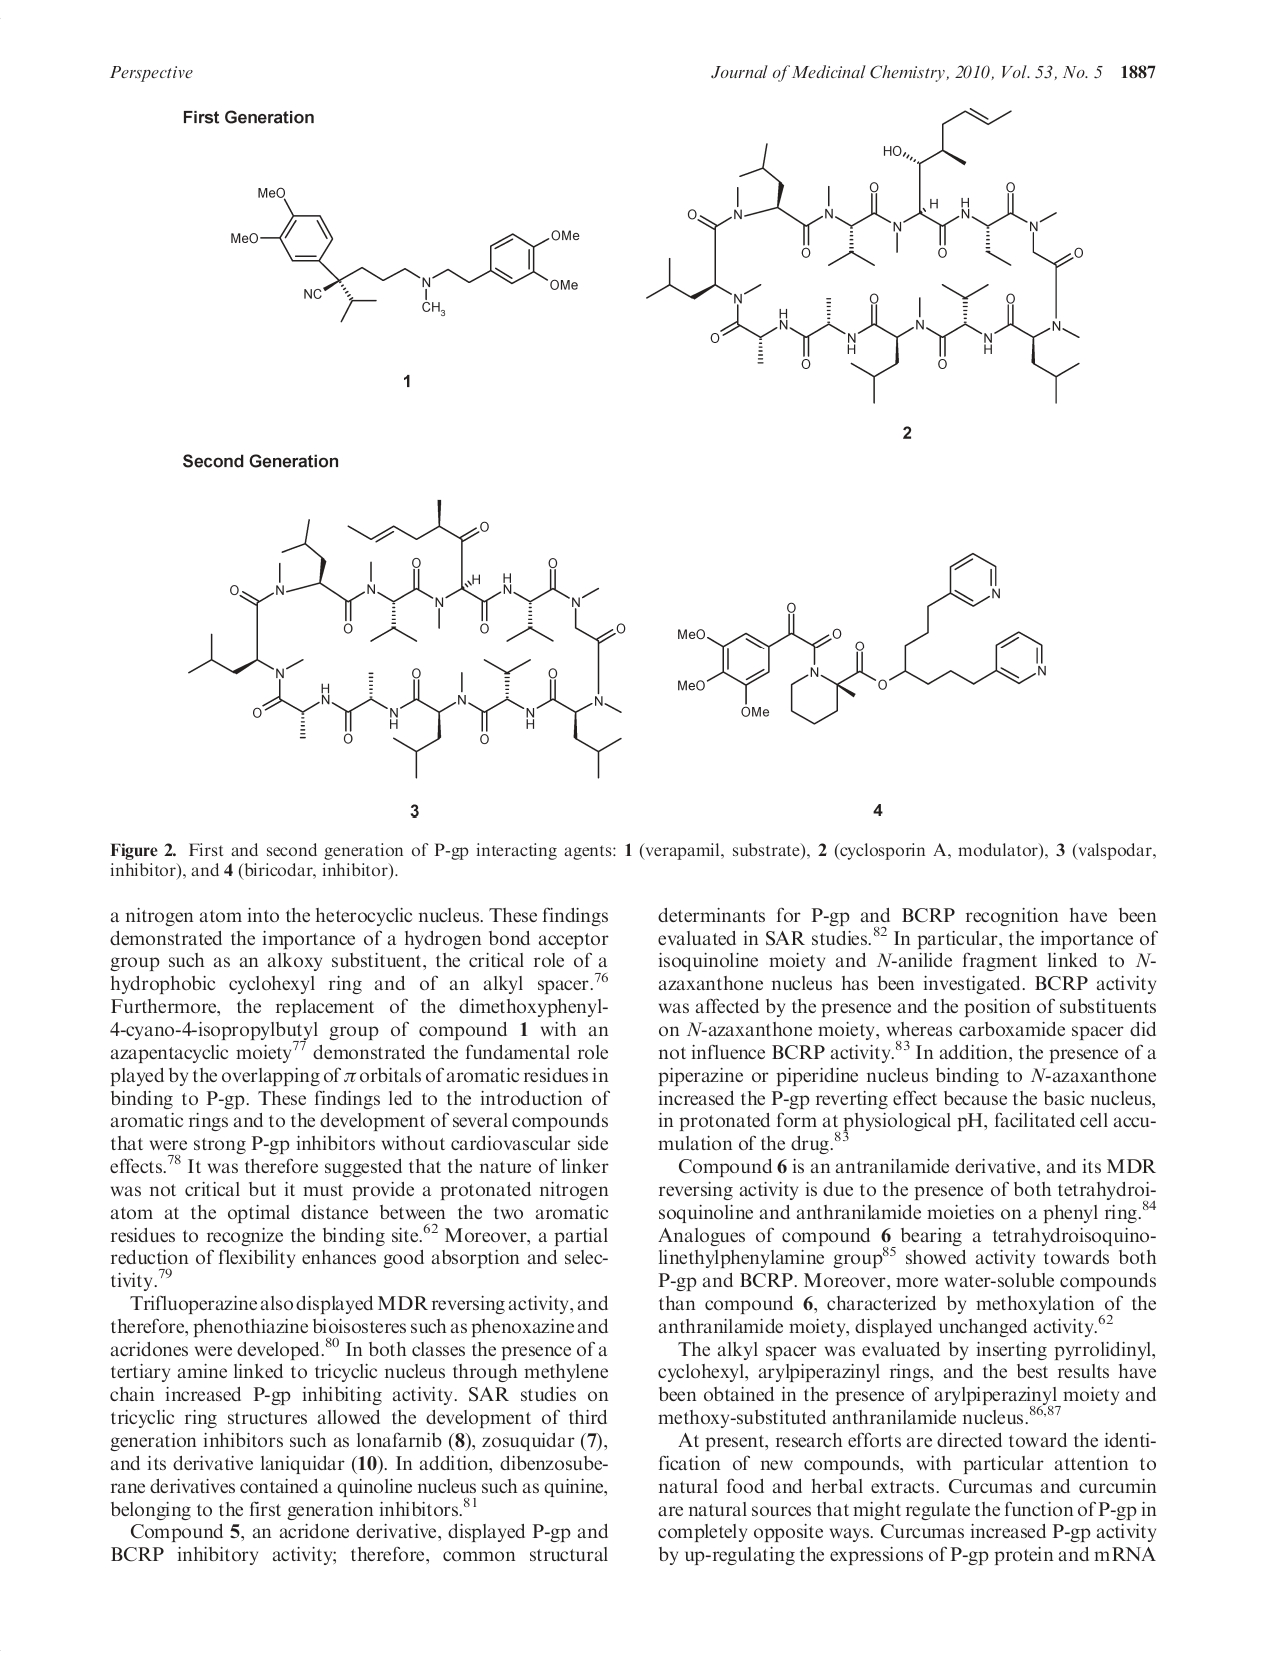exist_molecular: (644, 108, 1082, 408), (188, 497, 624, 785), (674, 548, 1049, 727), (227, 182, 582, 324)
